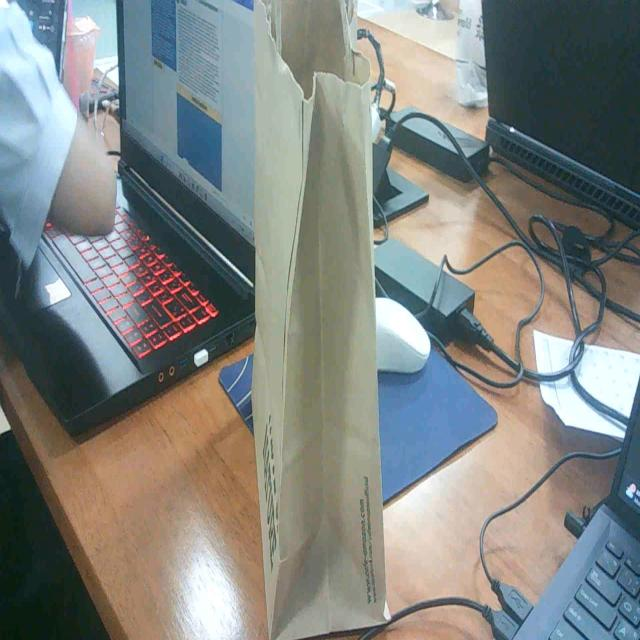bag: (240, 0, 392, 640)
